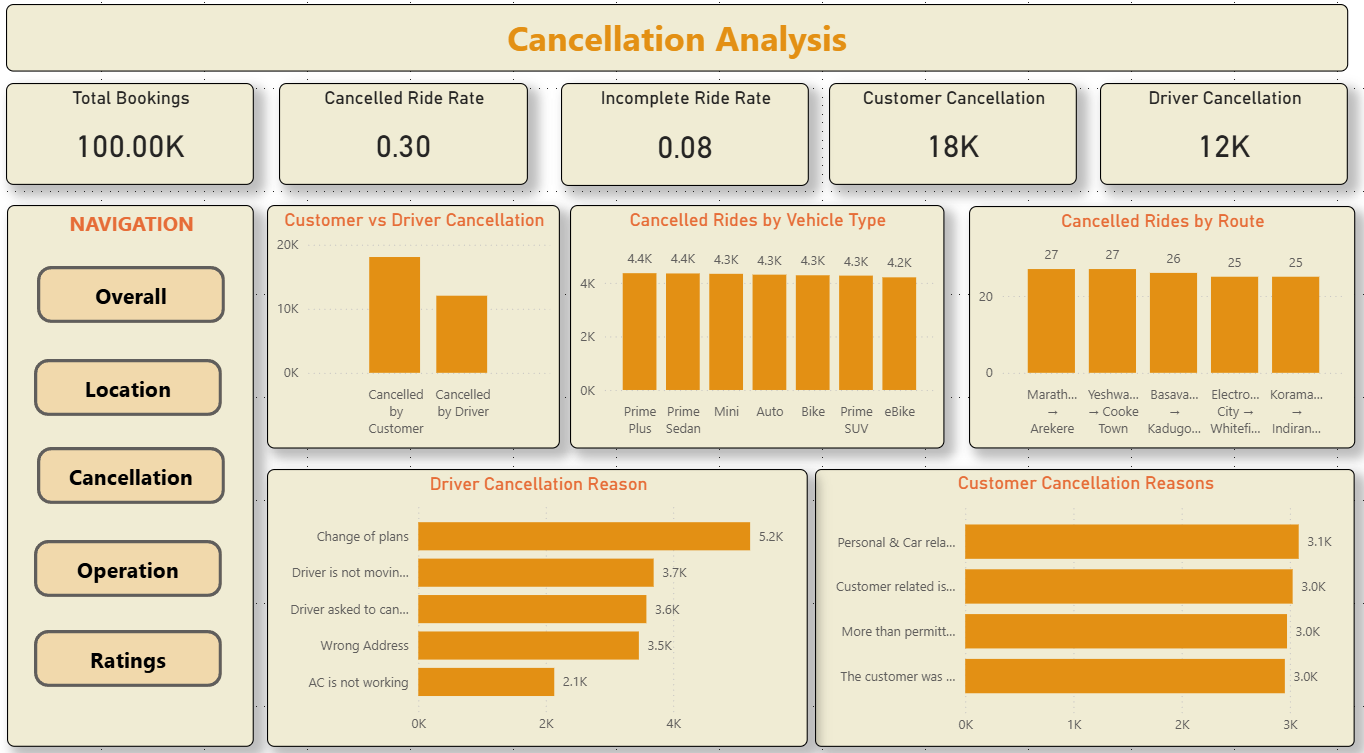

Layout of this report page (visuals, bound fields, positions):
{"tool":"powerbi","page":{"name":"Cancellation","canvas":[1280,720],"ordinal":2},"visuals":[{"type":"card","title":"Customer Cancellation","fields":{"Values":["Sum(Bangalore_Ride_Bookings.Cancelled Rides by Customer)"]},"box":[774.5,91.3,231.1,95.1],"z":0},{"type":"card","title":"Total Bookings","fields":{"Values":["Count(Bangalore_Ride_Bookings.Booking ID)"]},"box":[7.5,91.3,231.1,95.1],"z":1000},{"type":"card","title":"Driver Cancellation","fields":{"Values":["Sum(Bangalore_Ride_Bookings.Cancelled Rides by Driver)"]},"box":[1027.1,91.3,231.1,95.1],"z":2000},{"type":"card","title":"Incomplete Ride Rate","fields":{"Values":["Bangalore_Ride_Bookings.Incomplete Rate %"]},"box":[524.7,91.3,231.1,96],"z":3000},{"type":"card","title":"Cancelled Ride Rate","fields":{"Values":["Bangalore_Ride_Bookings.Cancellation Rate %"]},"box":[261.9,91.3,232.1,95.1],"z":4000},{"type":"textbox","box":[7.5,17.7,1250.8,63.4],"z":5000},{"type":"textbox","title":"NAVIGATION","box":[8.4,205,230.2,505.2],"z":6000},{"type":"columnChart","title":"Customer vs Driver Cancellation","fields":{"Category":["Bangalore_Ride_Bookings.Booking Status"],"Y":["CountNonNull(Bangalore_Ride_Bookings.Booking ID)"]},"box":[250.7,205,273.1,227.4],"z":7000},{"type":"clusteredBarChart","title":"Customer Cancellation Reasons","fields":{"Category":["Bangalore_Ride_Bookings.Driver Cancel Reason"],"Y":["CountNonNull(Bangalore_Ride_Bookings.Cancelled Rides by Customer)"]},"box":[761.5,451.1,503.3,259.1],"z":8000},{"type":"clusteredBarChart","title":"Driver Cancellation Reason","fields":{"Category":["Bangalore_Ride_Bookings.Reason for cancelling by Customer"],"Y":["CountNonNull(Bangalore_Ride_Bookings.Cancelled Rides by Driver)"]},"box":[250.7,451.1,504.2,259.1],"z":9000},{"type":"columnChart","fields":{"Y":["Bangalore_Ride_Bookings.Cancelled Rides"],"Category":["Bangalore_Ride_Bookings.Vehicle Type"]},"box":[533.1,205,348.6,227.4],"z":10000},{"type":"columnChart","fields":{"Y":["Bangalore_Ride_Bookings.Cancelled Rides"],"Category":["Bangalore_Ride_Bookings.Route"]},"box":[905,206,359.8,226.5],"z":11000},{"type":"actionButton","box":[33.6,348.6,175.2,53.1],"z":11001},{"type":"actionButton","box":[36.3,430.6,175.2,53.1],"z":11002},{"type":"actionButton","box":[33.6,517.3,175.2,53.1],"z":11003},{"type":"actionButton","box":[33.6,601.2,175.2,53.1],"z":11004},{"type":"actionButton","box":[36.3,261.9,175.2,53.1],"z":11005}]}

Visuals, with their boxes in screenshot pixels (x1, y1, x2, y2), scaled from the page's 1280x720 canvas onto the 1364x753 screenshot:
"Customer Cancellation" card: [825, 95, 1072, 195]
"Total Bookings" card: [8, 95, 254, 195]
"Driver Cancellation" card: [1095, 95, 1341, 195]
"Incomplete Ride Rate" card: [559, 95, 805, 196]
"Cancelled Ride Rate" card: [279, 95, 526, 195]
textbox: [8, 19, 1341, 85]
"NAVIGATION" textbox: [9, 214, 254, 743]
"Customer vs Driver Cancellation" columnChart: [267, 214, 558, 452]
"Customer Cancellation Reasons" clusteredBarChart: [811, 472, 1348, 743]
"Driver Cancellation Reason" clusteredBarChart: [267, 472, 804, 743]
columnChart - Bangalore_Ride_Bookings.Cancelled Rides x Bangalore_Ride_Bookings.Vehicle Type: [568, 214, 940, 452]
columnChart - Bangalore_Ride_Bookings.Cancelled Rides x Bangalore_Ride_Bookings.Route: [964, 215, 1348, 452]
actionButton: [36, 365, 223, 420]
actionButton: [39, 450, 225, 506]
actionButton: [36, 541, 223, 597]
actionButton: [36, 629, 223, 684]
actionButton: [39, 274, 225, 329]
